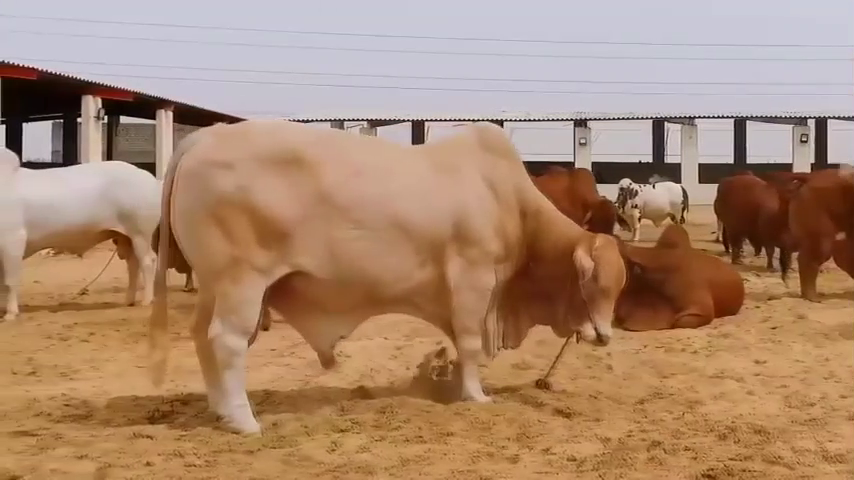bo: (140, 112, 629, 437), (1, 146, 167, 322), (612, 219, 747, 335), (774, 165, 852, 315), (522, 154, 619, 246), (708, 162, 781, 272), (608, 172, 693, 241)
